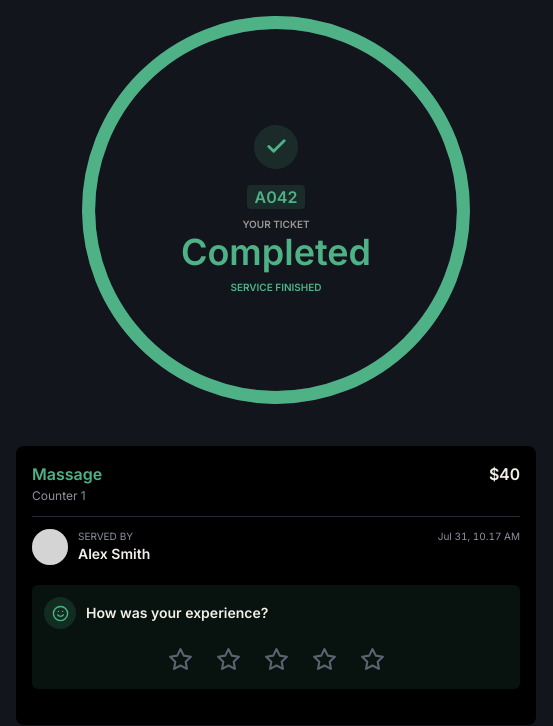
ticket lifecycle messages › saves completed-ticket feedback and displays the selected rating
Expected: the text "Alex Smith" is shown, [78,545,150,562]
Expected: the text "Excellent" is not shown
Click the button named "5 stars, Excellent": coordinates (372, 659) [354,641,390,677]
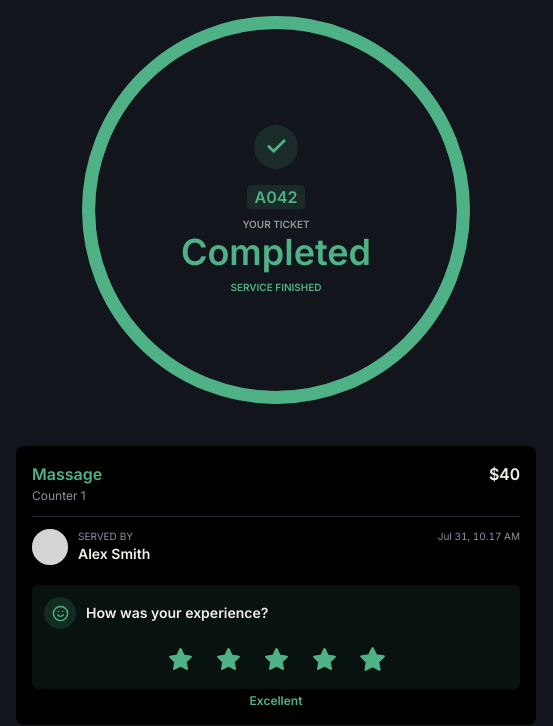
Expected: the text "Excellent" is shown, [250,693,302,708]
